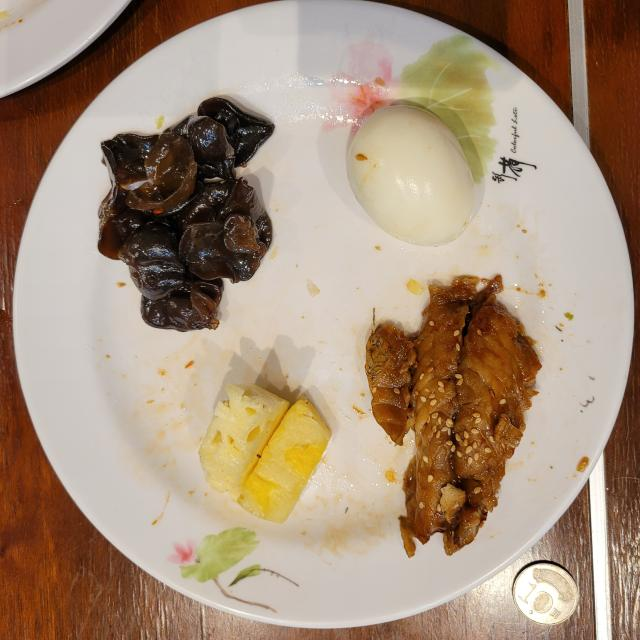Kabayaki sea bream fillet: (366, 275, 540, 554)
coin: (512, 562, 578, 625)
pineapple: (199, 384, 331, 522)
